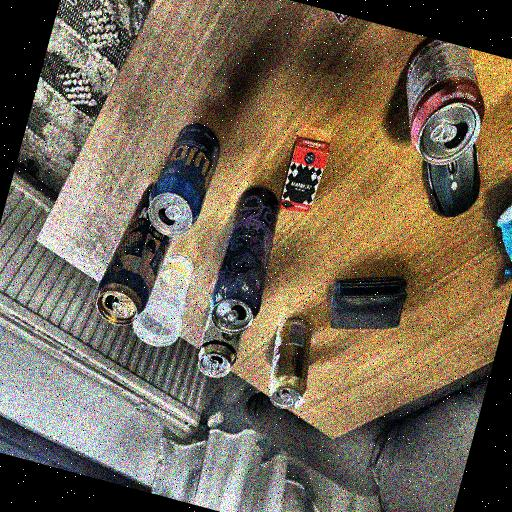A_LeCoq: (258, 315, 322, 410)
karhu: (84, 212, 179, 334)
koff: (369, 30, 500, 188)
koti: (146, 112, 224, 232)
sandels: (188, 312, 250, 385)
